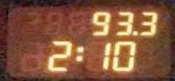-: (131, 30, 137, 35)
0: (110, 40, 136, 70)
1: (100, 42, 110, 70)
2: (46, 40, 71, 70)
3: (115, 11, 133, 35), (138, 11, 156, 35)
9: (91, 11, 109, 35)
X: (74, 46, 82, 61)
